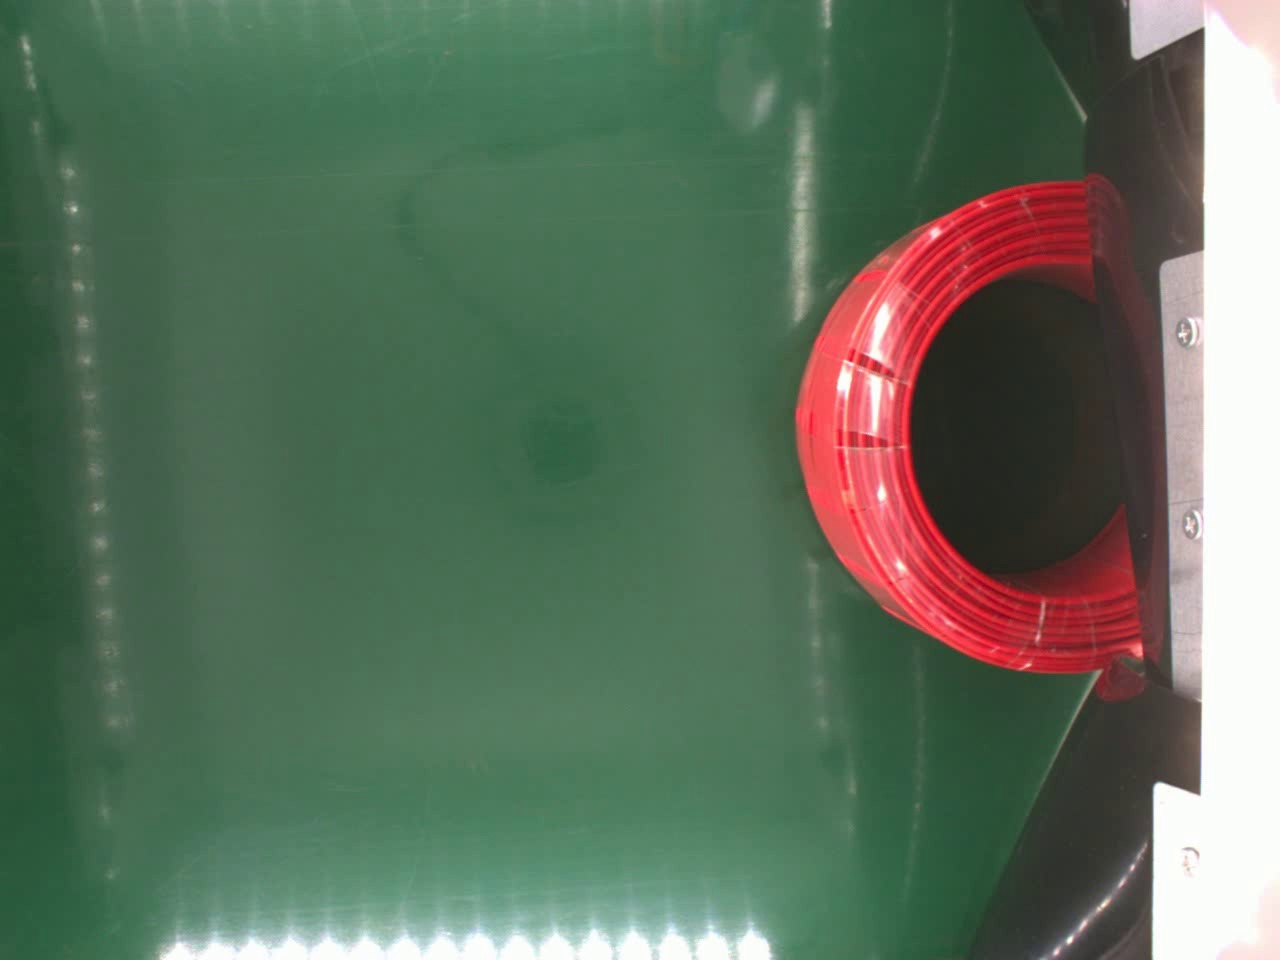red: (791, 181, 1142, 676)
